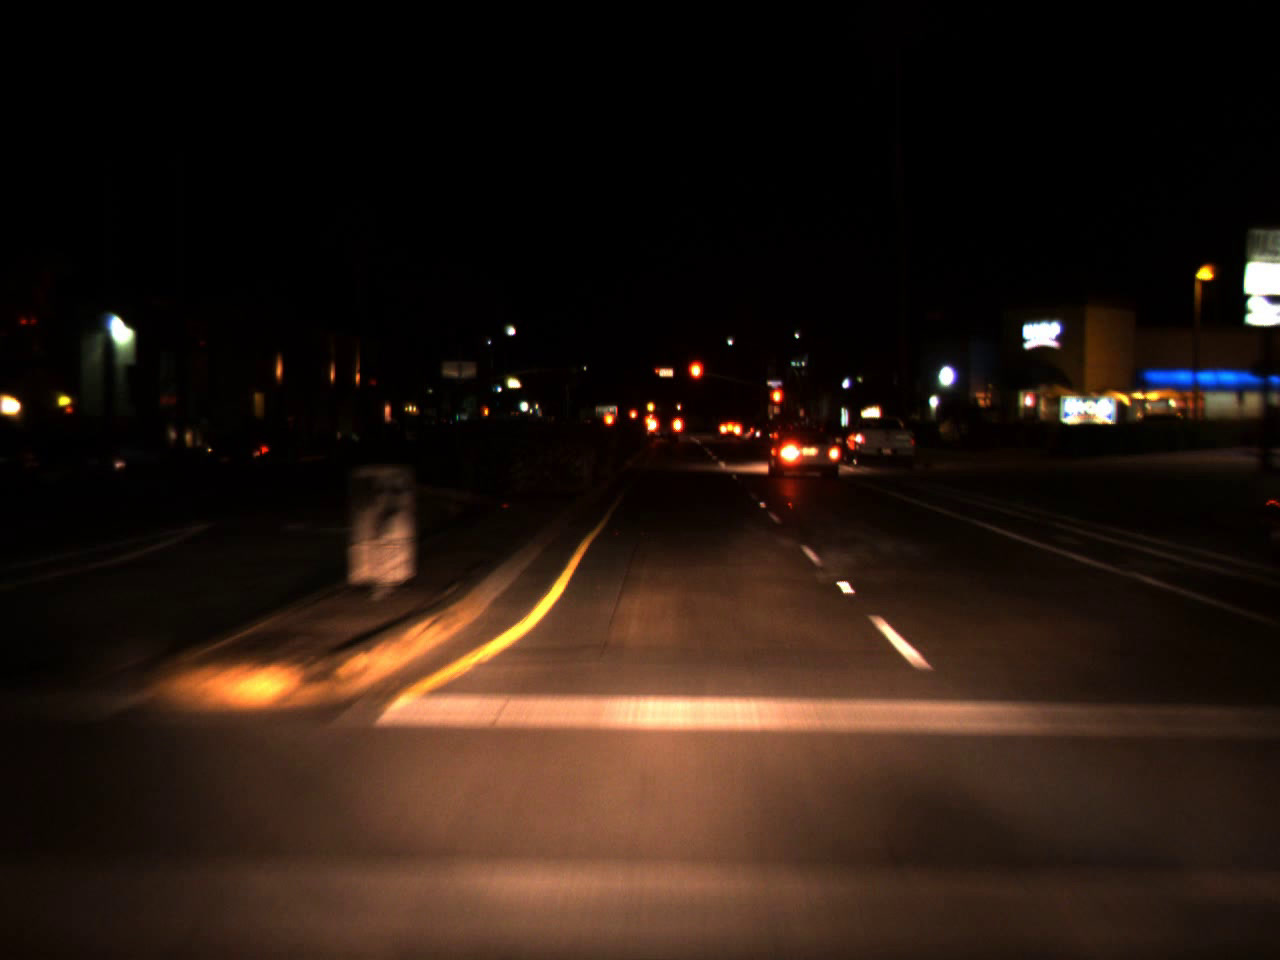stop: (687, 358, 705, 401), (769, 387, 784, 419), (655, 368, 661, 378)
